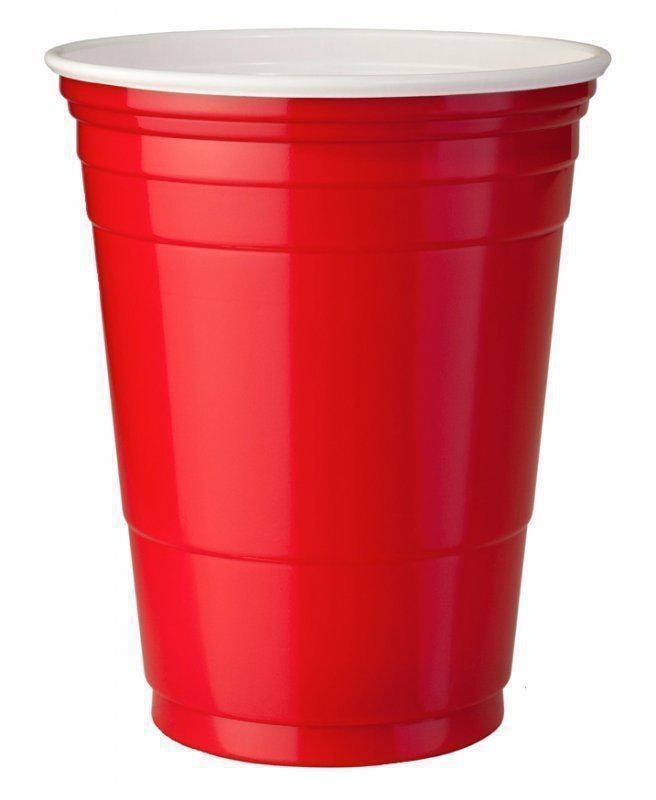cup-disposable: (45, 19, 611, 771)
